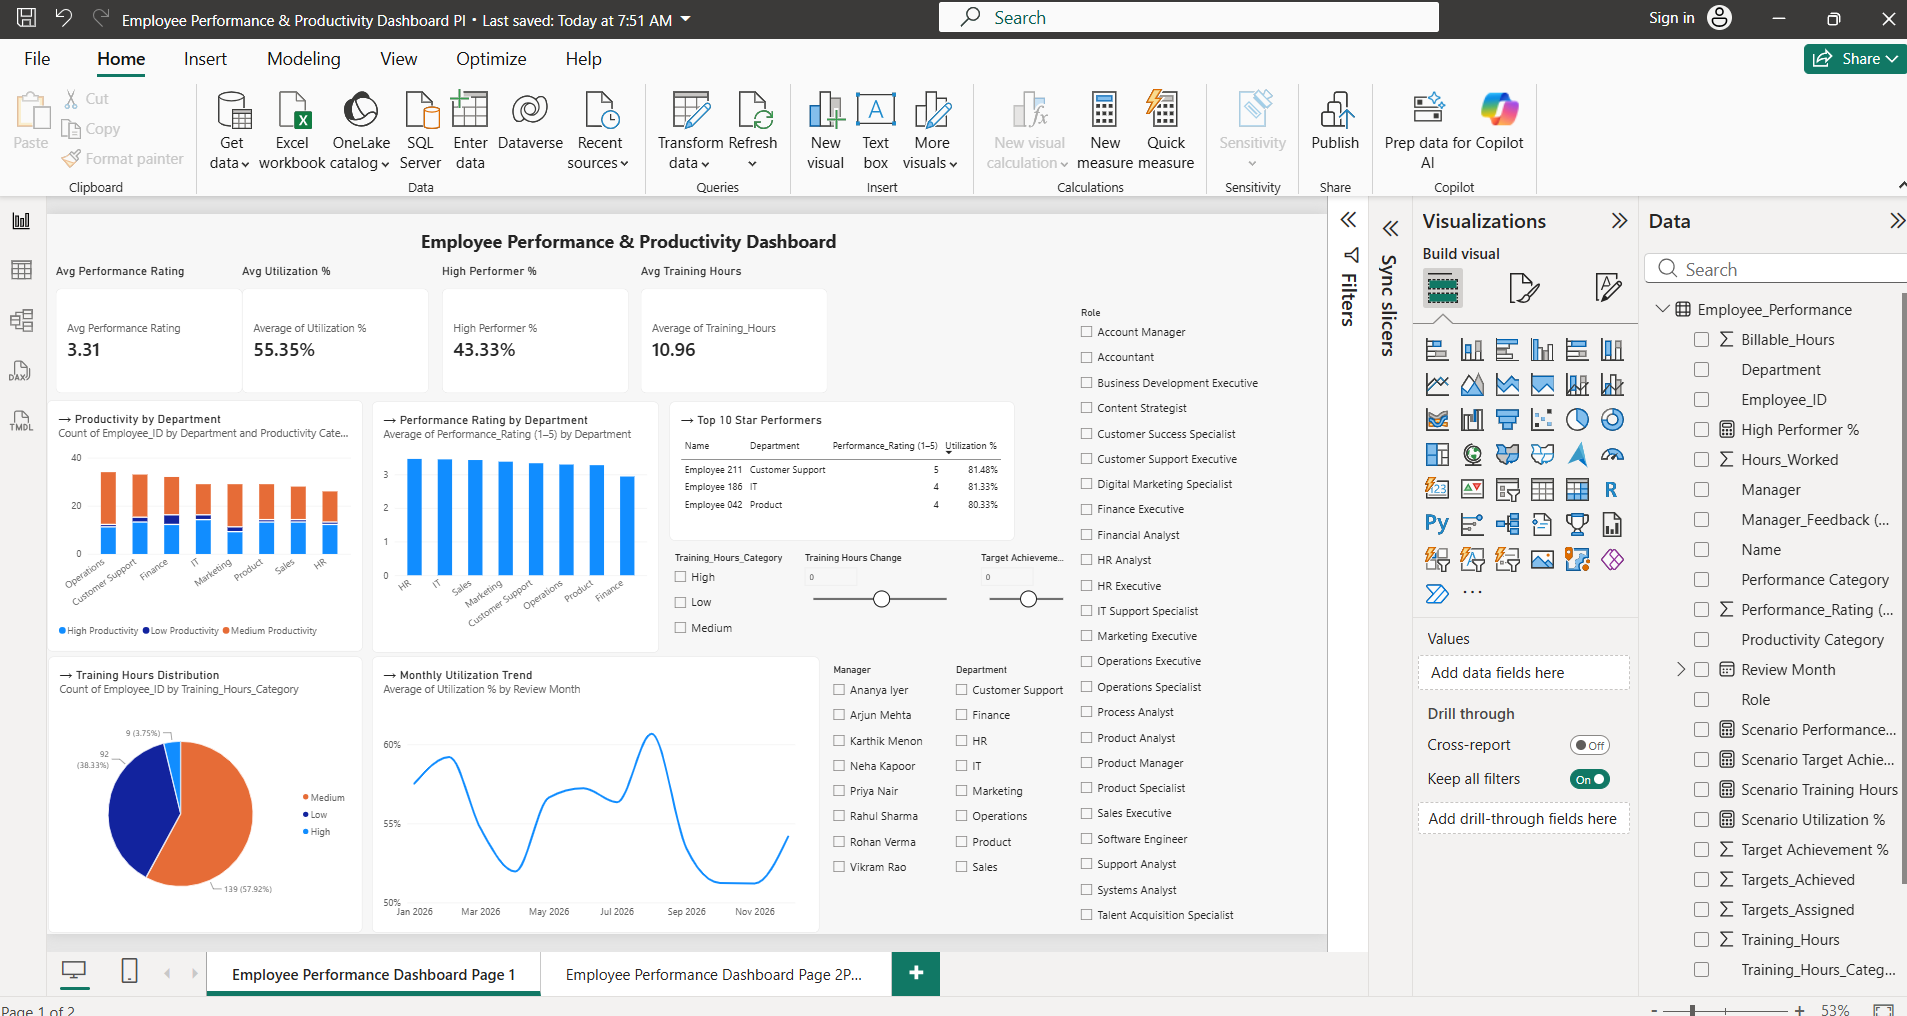

The page's visual inventory and layout, read from the dashboard file:
{"tool":"powerbi","page":{"name":"Employee Performance Dashboard Page 1","canvas":[1920,1080],"ordinal":0},"visuals":[{"type":"cardVisual","title":"Avg Performance Rating","fields":{"Data":["Avg(Employee_Performance.Performance_Rating (1–5))"]},"box":[12.5,75,280.4,194.6],"z":0},{"type":"cardVisual","title":"Avg Utilization %","fields":{"Data":["Avg(Employee_Performance.Utilization %)"]},"box":[292.9,75,280.4,194.6],"z":1},{"type":"cardVisual","title":"High Performer %","fields":{"Data":["Employee_Performance.High Performer %"]},"box":[592.9,75,280.4,194.6],"z":2},{"type":"cardVisual","title":"Avg Training Hours","fields":{"Data":["Avg(Employee_Performance.Training_Hours)"]},"box":[891.1,75,280.4,194.6],"z":3},{"type":"clusteredColumnChart","title":"→ Performance Rating by Department","fields":{"Category":["Employee_Performance.Department"],"Y":["Avg(Employee_Performance.Performance_Rating (1–5))"]},"box":[487.5,280.4,430.4,376.8],"z":4},{"type":"columnChart","title":"→ Productivity by Department","fields":{"Category":["Employee_Performance.Department"],"Series":["Employee_Performance.Productivity Category"],"Y":["CountNonNull(Employee_Performance.Employee_ID)"]},"box":[0,278.6,473.2,376.8],"z":5},{"type":"pieChart","title":"→ Training Hours Distribution","fields":{"Category":["Employee_Performance.Training_Hours_Category"],"Y":["CountNonNull(Employee_Performance.Employee_ID)"]},"box":[1.8,664.3,471.4,414.3],"z":6},{"type":"lineChart","title":"→ Monthly Utilization Trend","fields":{"Category":["Employee_Performance.Review Month"],"Y":["Avg(Employee_Performance.Utilization %)"]},"box":[487.5,664.3,671.4,414.3],"z":7},{"type":"tableEx","title":"→ Top 10 Star Performers","fields":{"Values":["Employee_Performance.Name","Employee_Performance.Department","Employee_Performance.Performance_Rating (1–5)","Employee_Performance.Utilization %"]},"box":[933.9,280.4,517.9,208.9],"z":8},{"type":"slicer","fields":{"Values":["Employee_Performance.Department"]},"box":[1355.4,675,187.5,332.1],"z":9},{"type":"slicer","fields":{"Values":["Employee_Performance.Role"]},"box":[1542.9,139.3,376.8,941.1],"z":10},{"type":"slicer","fields":{"Values":["Employee_Performance.Manager"]},"box":[1171.4,675,212.5,367.9],"z":11},{"type":"slicer","fields":{"Values":["Employee_Performance.Training_Hours_Category"]},"box":[933.9,505.4,194.6,150],"z":12},{"type":"textbox","box":[560.7,23.2,660.7,39.3],"z":13},{"type":"slicer","fields":{"Values":["Training Hours Change.Training Hours Change"]},"box":[1128.6,507.1,239.3,150],"z":14},{"type":"slicer","fields":{"Values":["Target Achievement Change.Target Achievement Change"]},"box":[1392.9,507.1,150,150],"z":15}]}

Visuals, with their boxes on the page's 1920x1080 design canvas (x1, y1, x2, y2). These are canvas units, not pixel positions in the 1907x1016 screenshot, which may show the page scaled, cropped or inside an application window:
"Avg Performance Rating" cardVisual: bbox=(12, 75, 293, 270)
"Avg Utilization %" cardVisual: bbox=(293, 75, 573, 270)
"High Performer %" cardVisual: bbox=(593, 75, 873, 270)
"Avg Training Hours" cardVisual: bbox=(891, 75, 1172, 270)
"→ Performance Rating by Department" clusteredColumnChart: bbox=(488, 280, 918, 657)
"→ Productivity by Department" columnChart: bbox=(0, 279, 473, 655)
"→ Training Hours Distribution" pieChart: bbox=(2, 664, 473, 1079)
"→ Monthly Utilization Trend" lineChart: bbox=(488, 664, 1159, 1079)
"→ Top 10 Star Performers" tableEx: bbox=(934, 280, 1452, 489)
slicer - Employee_Performance.Department: bbox=(1355, 675, 1543, 1007)
slicer - Employee_Performance.Role: bbox=(1543, 139, 1920, 1080)
slicer - Employee_Performance.Manager: bbox=(1171, 675, 1384, 1043)
slicer - Employee_Performance.Training_Hours_Category: bbox=(934, 505, 1128, 655)
textbox: bbox=(561, 23, 1221, 62)
slicer - Training Hours Change.Training Hours Change: bbox=(1129, 507, 1368, 657)
slicer - Target Achievement Change.Target Achievement Change: bbox=(1393, 507, 1543, 657)
